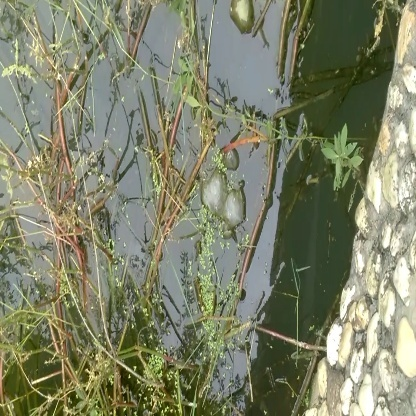plastic-bag: (200, 156, 255, 242)
